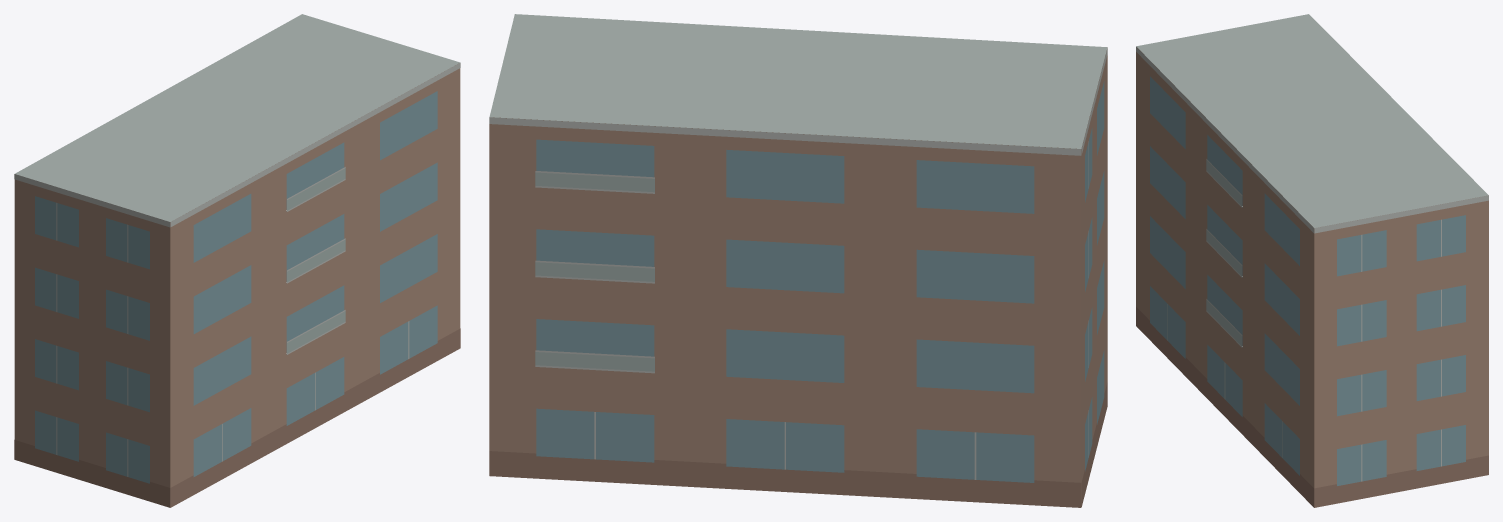
The model's file is survey-upis-32600817.glb.
3 renders of one model, left to right at view 1: azimuth 30°, elevation 25°; view 2: azimuth 150°, elevation 25°; view 3: azimuth 270°, elevation 25°, orthographic. The views are drawn at different scales.
Parts seen in each view (by area): view 1: survey-upis-32600817.tmp; view 2: survey-upis-32600817.tmp; view 3: survey-upis-32600817.tmp.
Boxes of the visible parts, x1,y1,x2,y2 form: survey-upis-32600817.tmp: [14, 14, 460, 507]; survey-upis-32600817.tmp: [489, 14, 1107, 507]; survey-upis-32600817.tmp: [1136, 14, 1488, 507].
Bounding box in the file's own units: 21.03 × 12.8 × 14.64.
